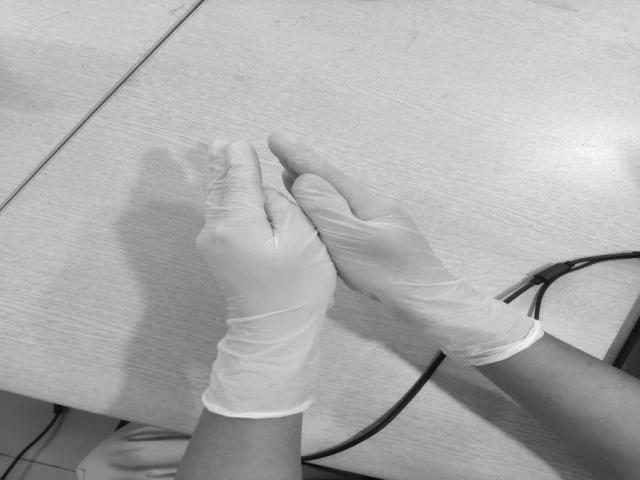gloved: (276, 134, 461, 286), (203, 138, 334, 322)
